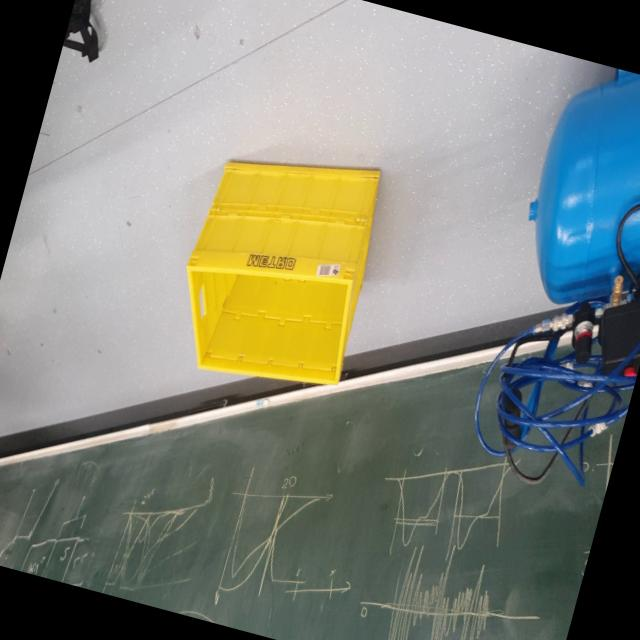box: (149, 103, 420, 426)
